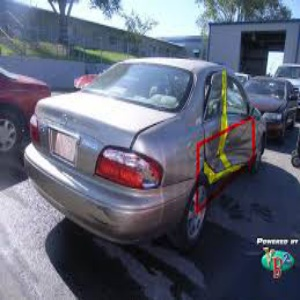bumper_scratch: (76, 193, 140, 235)
